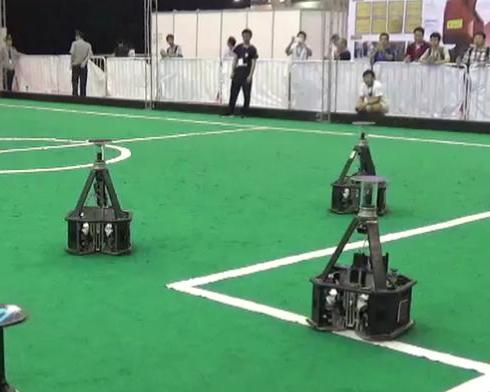robot: (310, 175, 418, 343), (58, 133, 141, 259), (330, 117, 391, 216)
